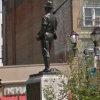Statue: (33, 0, 72, 69)
